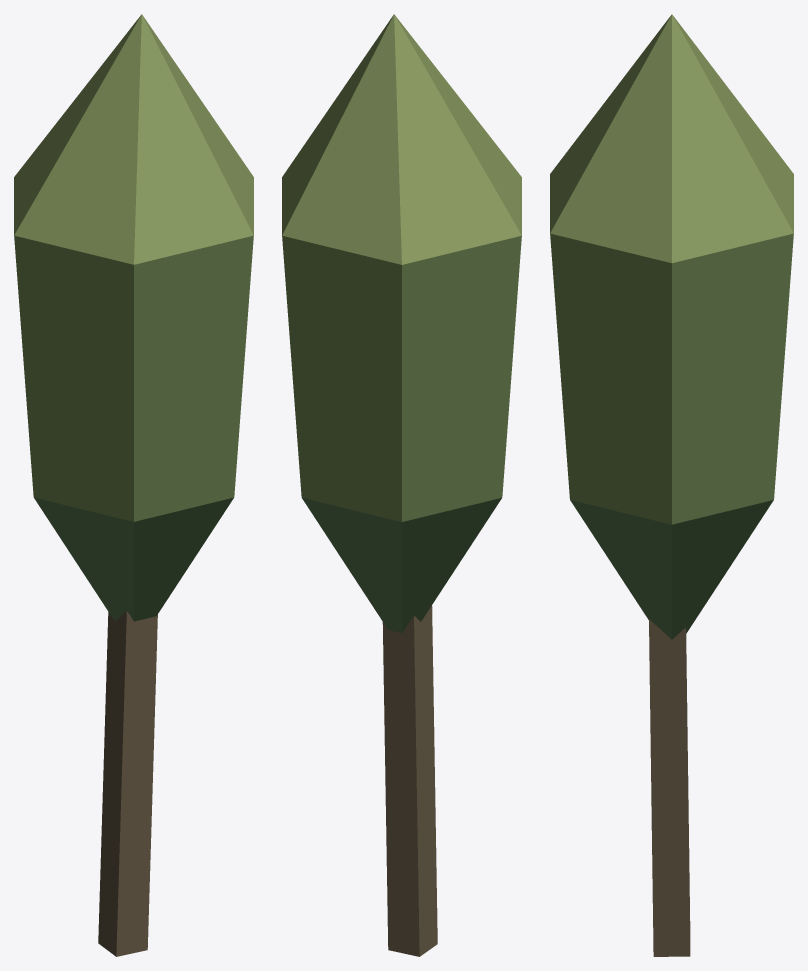
Rendered from ua_valley_poplar.obj.
The picture shows the model from 3 angles, left to right: view 1: azimuth 30°, elevation 25°; view 2: azimuth 150°, elevation 25°; view 3: azimuth 270°, elevation 25°; orthographic projection.
Parts seen in each view (by area): view 1: ua_valley_poplar; view 2: ua_valley_poplar; view 3: ua_valley_poplar.
Boxes of the visible parts, x1=… form: ua_valley_poplar: x1=14, y1=14, x2=253, y2=956; ua_valley_poplar: x1=282, y1=14, x2=521, y2=956; ua_valley_poplar: x1=550, y1=14, x2=793, y2=956.
Size of the model in its own units: 1.53 by 5.65 by 1.32.
